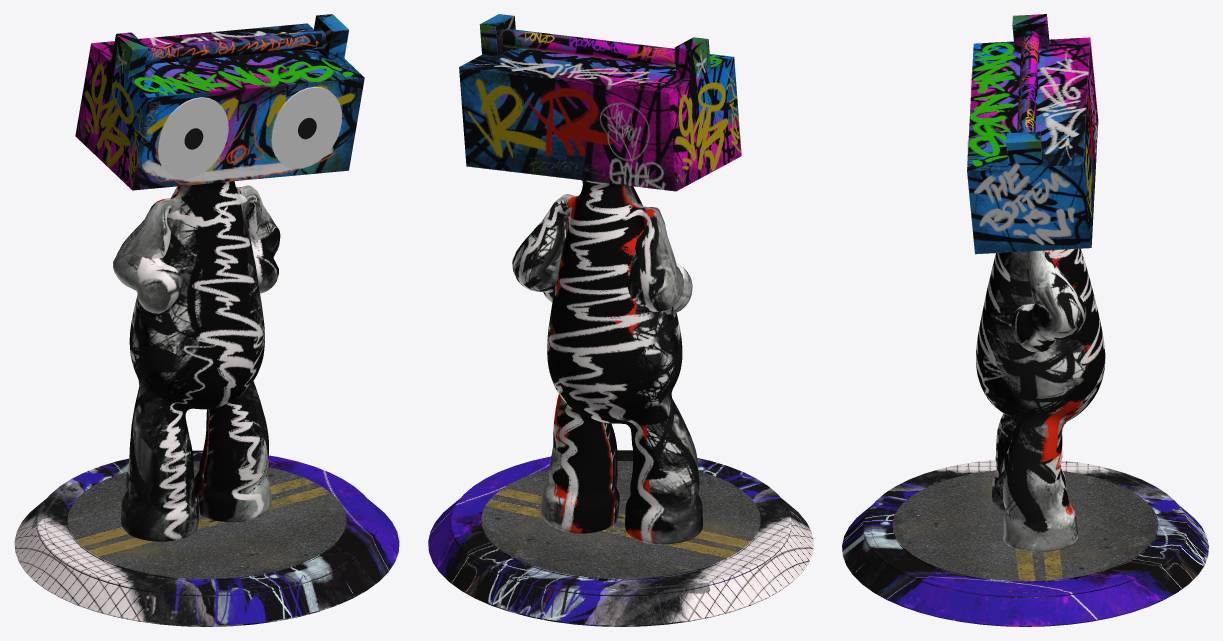
Rendered from 222_sanitized.glb.
The picture shows the model from 3 angles, left to right: view 1: azimuth 30°, elevation 25°; view 2: azimuth 150°, elevation 25°; view 3: azimuth 270°, elevation 25°; orthographic projection. The views are drawn at different scales.
Parts seen in each view (by area): view 1: BBody; view 2: BBody; view 3: BBody.
Part boxes in pixels (left/top/right/bottom): BBody: left=14, top=14, right=399, bottom=626; BBody: left=428, top=14, right=813, bottom=626; BBody: left=842, top=14, right=1208, bottom=626.
Bounding box in the file's own units: 1.45 × 2.17 × 1.45.
6 materials, 4 textured.
